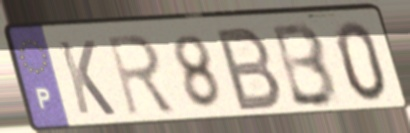0: (334, 17, 390, 106)
8: (169, 33, 224, 111)
B: (214, 23, 285, 114), (270, 19, 341, 110)
K: (54, 38, 119, 119)
R: (103, 32, 179, 120)
